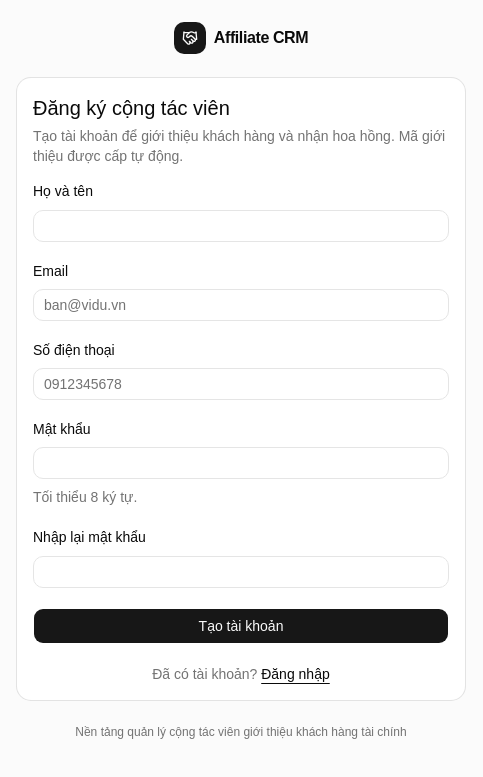
it: RegisterPage › shows a field error when the email is already registered
Step 1. Type "Đỗ Thị Mai" into the field labelled "Họ và tên" → [241, 226], box [33,210,449,242]
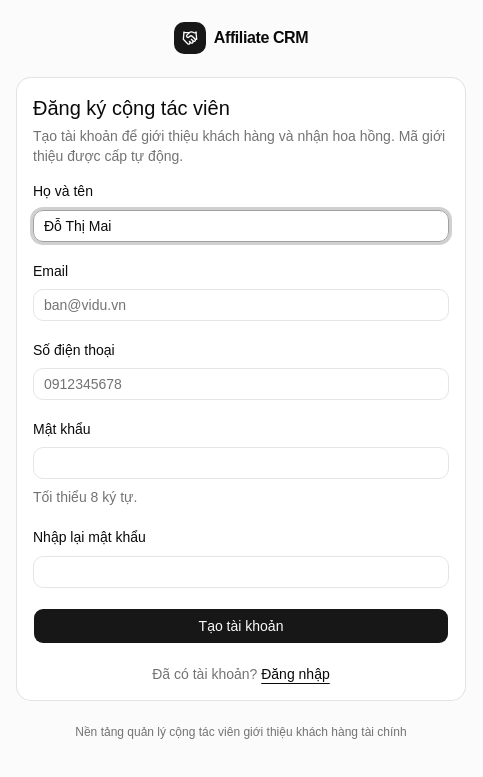
Step 2. Type "ctv1@demo.vn" into the field labelled "Email" → [241, 305], box [33,289,449,321]
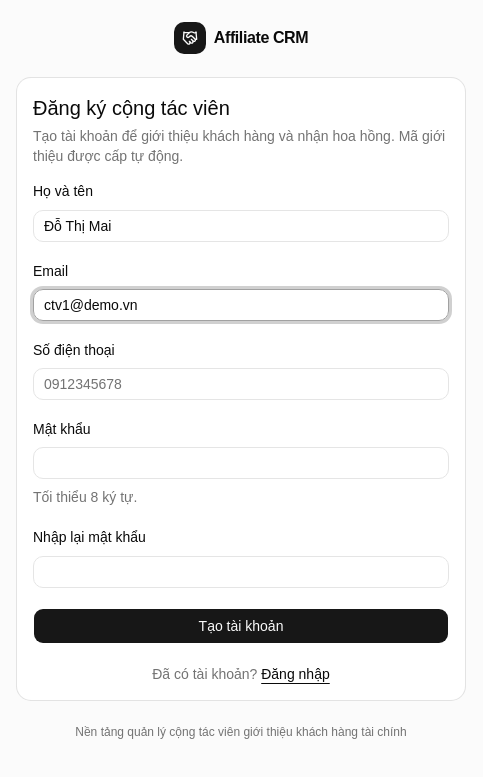
Step 3. Type "0901 234 567" into the field labelled "Số điện thoại" → [241, 384], box [33,368,449,400]
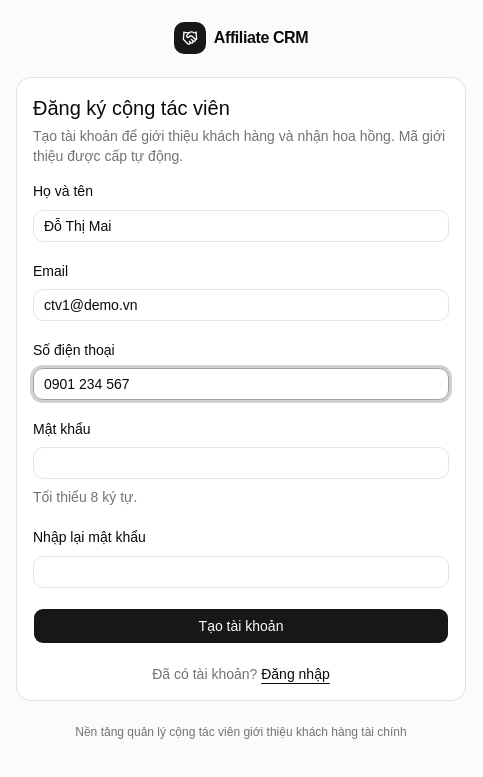
Step 4. Type "MatKhau@2026" into the password field labelled "Mật khẩu" → [241, 463], box [33,447,449,479]
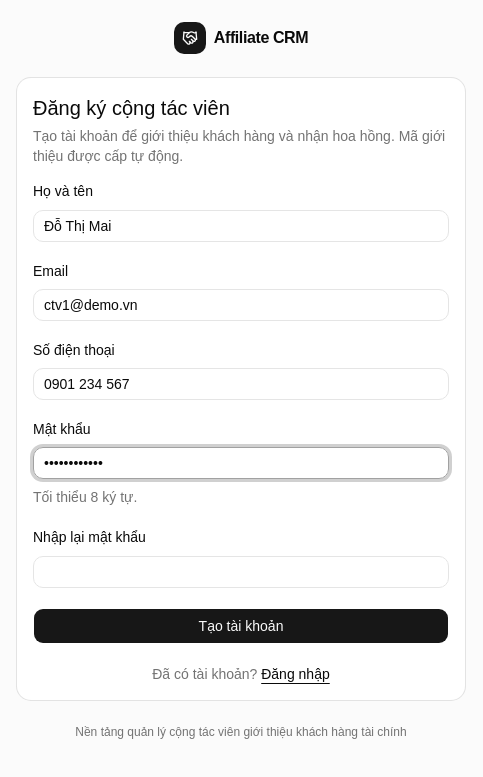
Step 5. Type "MatKhau@2026" into the password field labelled "Nhập lại mật khẩu" → [241, 572], box [33,556,449,588]
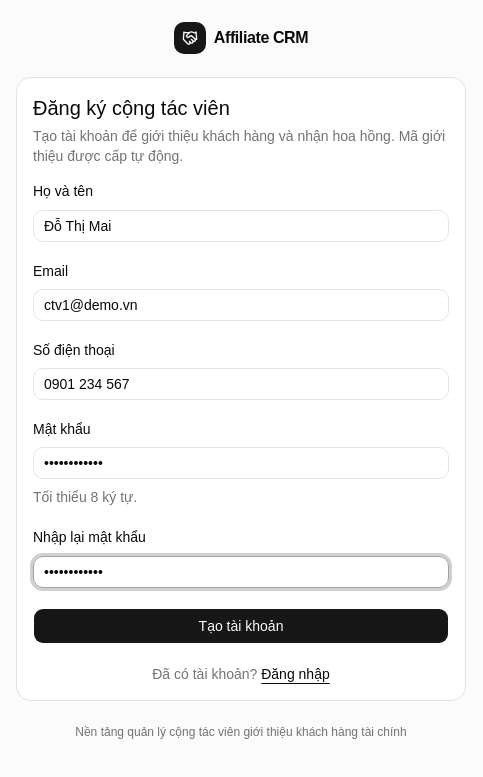
Step 6. Click the button "Tạo tài khoản" → [241, 626], box [33,608,449,644]
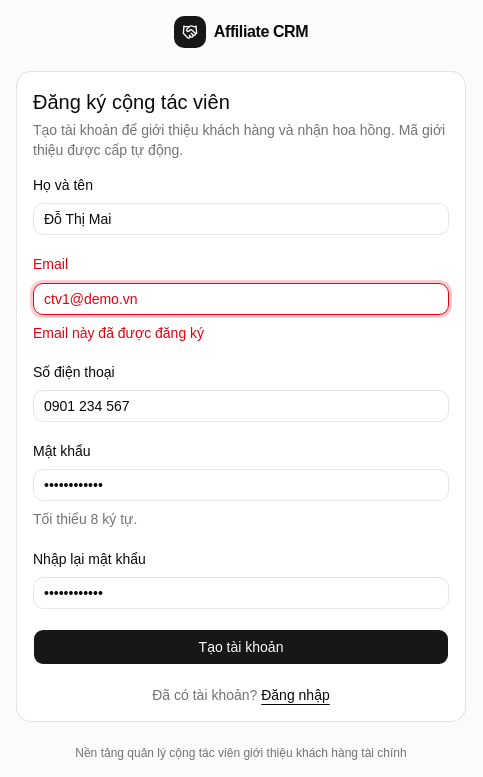
Check: the text "Email này đã được đăng ký" is shown, box [33,324,204,340]
